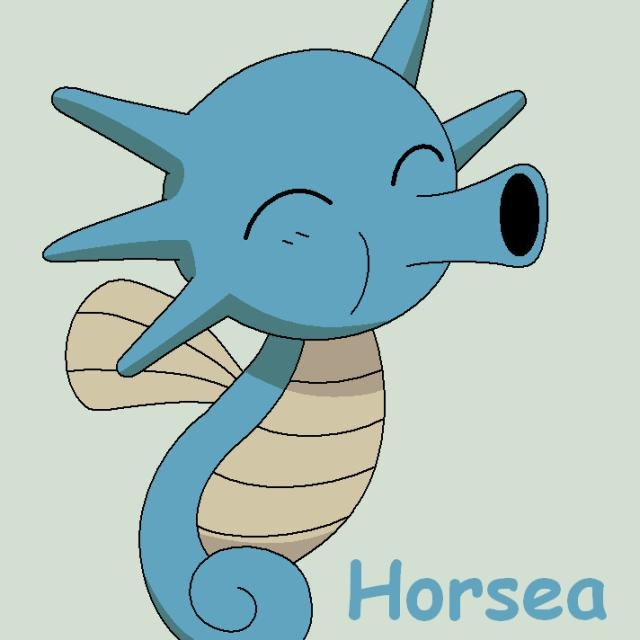Horsea: (57, 50, 548, 640)
